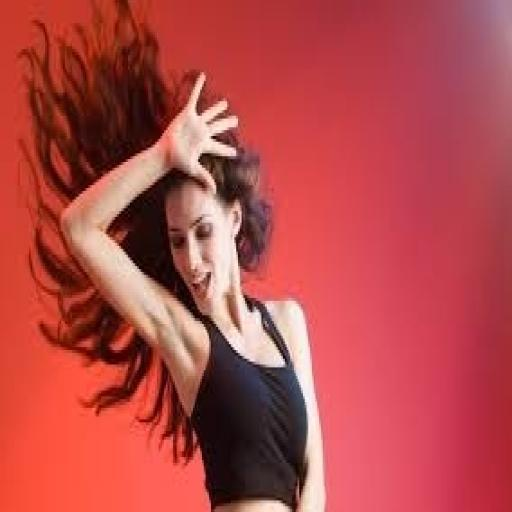dancing: (24, 28, 360, 512)
